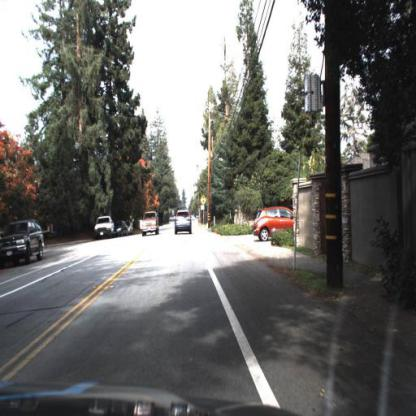car: (250, 197, 297, 246), (2, 221, 46, 269), (254, 207, 297, 240), (92, 209, 118, 242), (140, 207, 165, 239), (173, 208, 194, 238), (94, 215, 116, 239), (141, 211, 160, 238), (113, 217, 129, 241), (113, 221, 129, 239)
